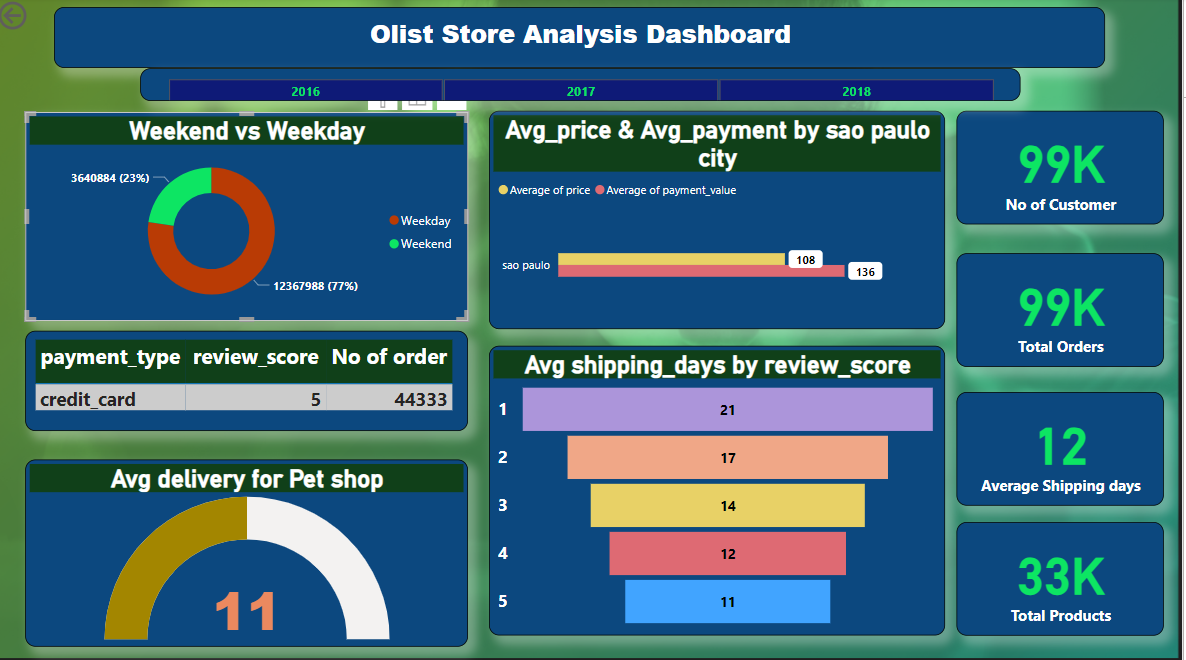

Layout of this report page (visuals, bound fields, positions):
{"tool":"tableau","page":{"name":"Master Dashboard","canvas":[1000,1000],"units":"permille","ordinal":5},"visuals":[{"type":"blank","box":[0,0,1000,23.5]},{"type":"image","param":"C:/Users/afrin/Downloads/olist.png","box":[0,23.5,127.3,117.5]},{"type":"text","box":[127.3,23.5,823.8,117.5]},{"type":"dashboard-object","box":[951.1,23.5,48.9,117.5]},{"type":"blank","box":[0,141,1000,23.5]},{"type":"image","param":"C:/Users/afrin/Downloads/pet.jpg","box":[3,170.4,71.8,141]},{"type":"worksheet","title":"KPI - 3","mark":"Automatic","rows":["product_category_name"],"box":[74.8,170.4,400.1,141]},{"type":"worksheet","title":"Sheet 21","mark":"Automatic","rows":["payment_type","review_score"],"box":[475,170.4,522,141]},{"type":"worksheet","title":"Donut-ww","mark":"Pie","rows":["Calculation_264023543316213761","Calculation_264023543316226051"],"box":[12.1,340.8,325.3,635.7]},{"type":"worksheet","title":"KPI - 5","mark":"Automatic","rows":["Calculation_450922927159508995","Calculation_450922927159508995"],"cols":["review_score"],"box":[337.4,340.8,325.3,635.7]},{"type":"worksheet","title":"KPI - 4","mark":"Automatic","box":[662.6,340.8,325.3,635.7]}]}

Visuals, with their boxes on the dashboard's canvas, which has no fixed pixel size, in thousandths of its width and height (x1, y1, x2, y2). These are canvas units, not pixel positions in the 1186x660 screenshot, which may show the page scaled, cropped or inside an application window:
blank: [0,0,1000,24]
image: [0,24,127,141]
text: [127,24,951,141]
dashboard-object: [951,24,1000,141]
blank: [0,141,1000,164]
image: [3,170,75,311]
"KPI - 3" worksheet: [75,170,475,311]
"Sheet 21" worksheet: [475,170,997,311]
"Donut-ww" worksheet (Pie marks): [12,341,337,976]
"KPI - 5" worksheet: [337,341,663,976]
"KPI - 4" worksheet: [663,341,988,976]
